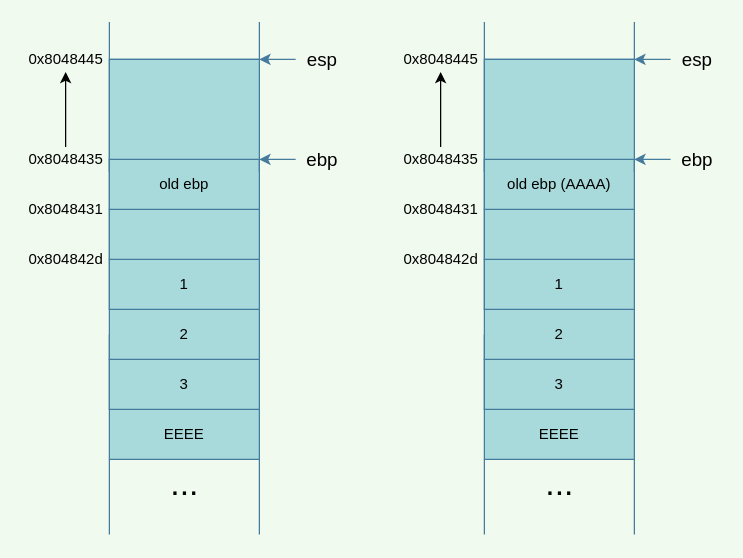
Some shapes in this 743 by 558 pixel diagram are drawn without their labels. Each missing label, with the centre of its shape:
"AAAA AAAA AAAA AAAA" goes at pixel 558 108.
"buf (16 byes)" goes at pixel 183 108.
"ret" goes at pixel 183 233.
"ret (BBBB)" goes at pixel 558 233.
